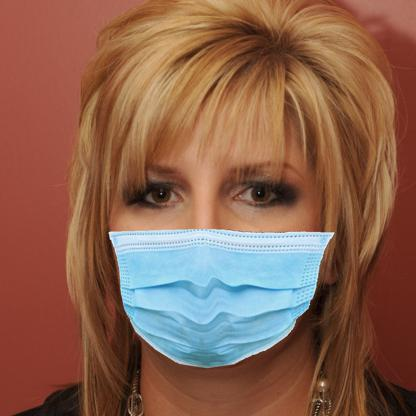mask: (105, 228, 337, 368)
